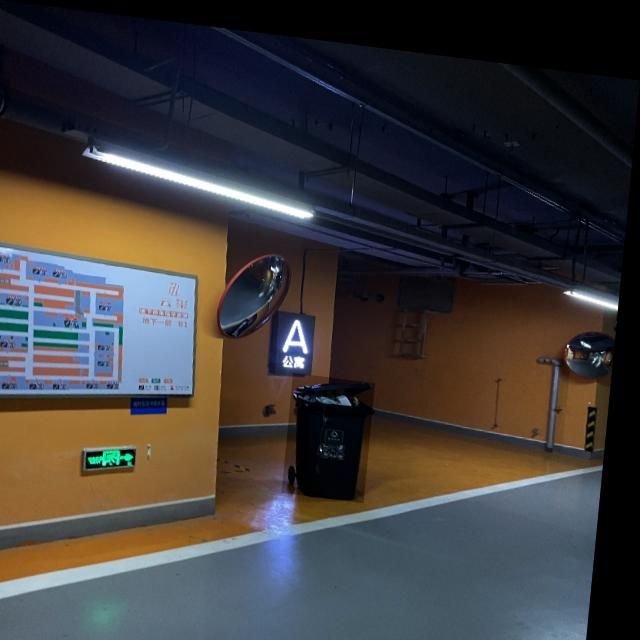overflow: (291, 364, 382, 492)
